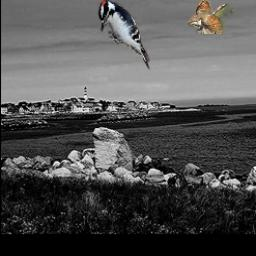Cuckoo: (188, 0, 233, 35)
Woodpecker: (98, 0, 151, 71)
